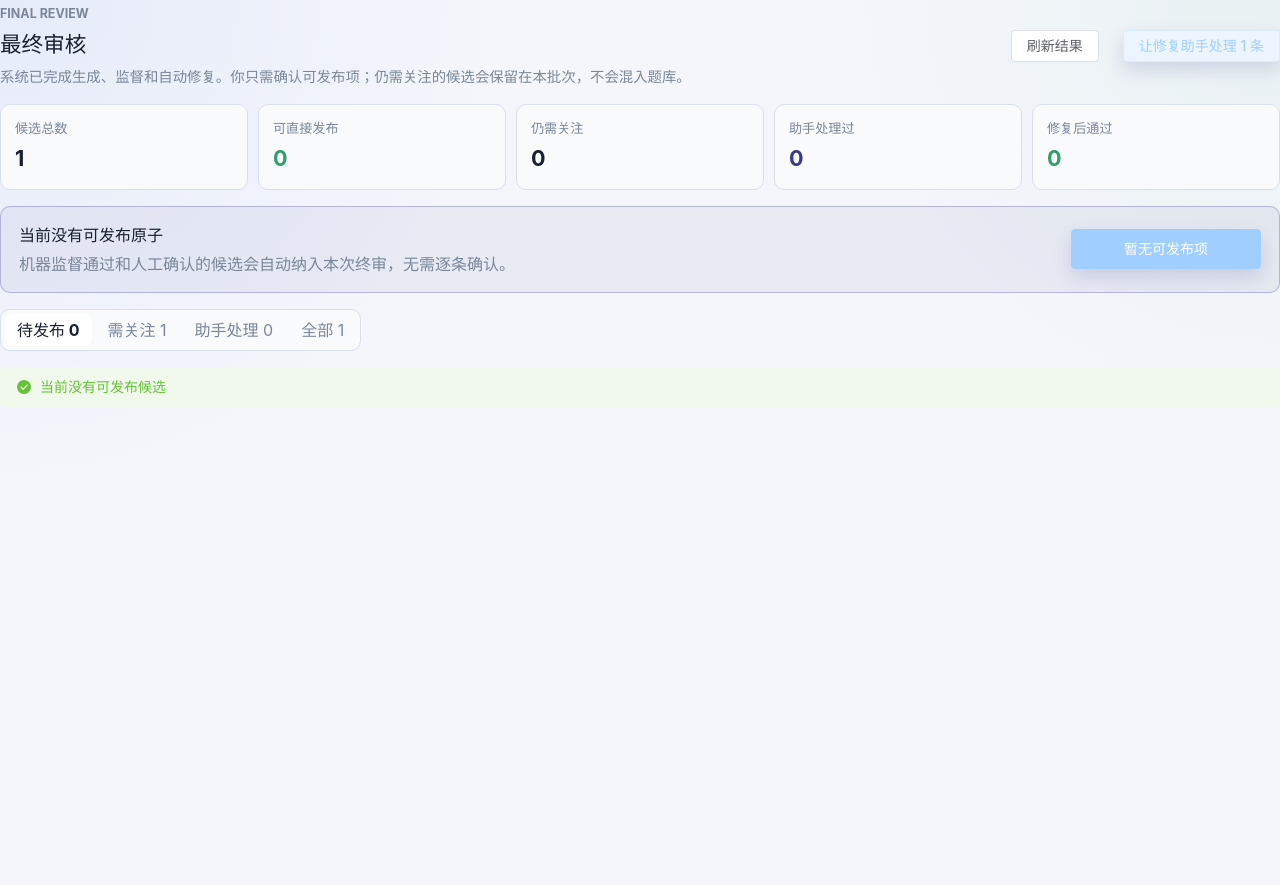
QuestionBankCandidateReviewPanel › disables review and repair actions while the automatic pipeline is running
Click the button "需关注 1" at (137, 330), box x1=96 y1=314 x2=179 y2=346
(page scrolled)
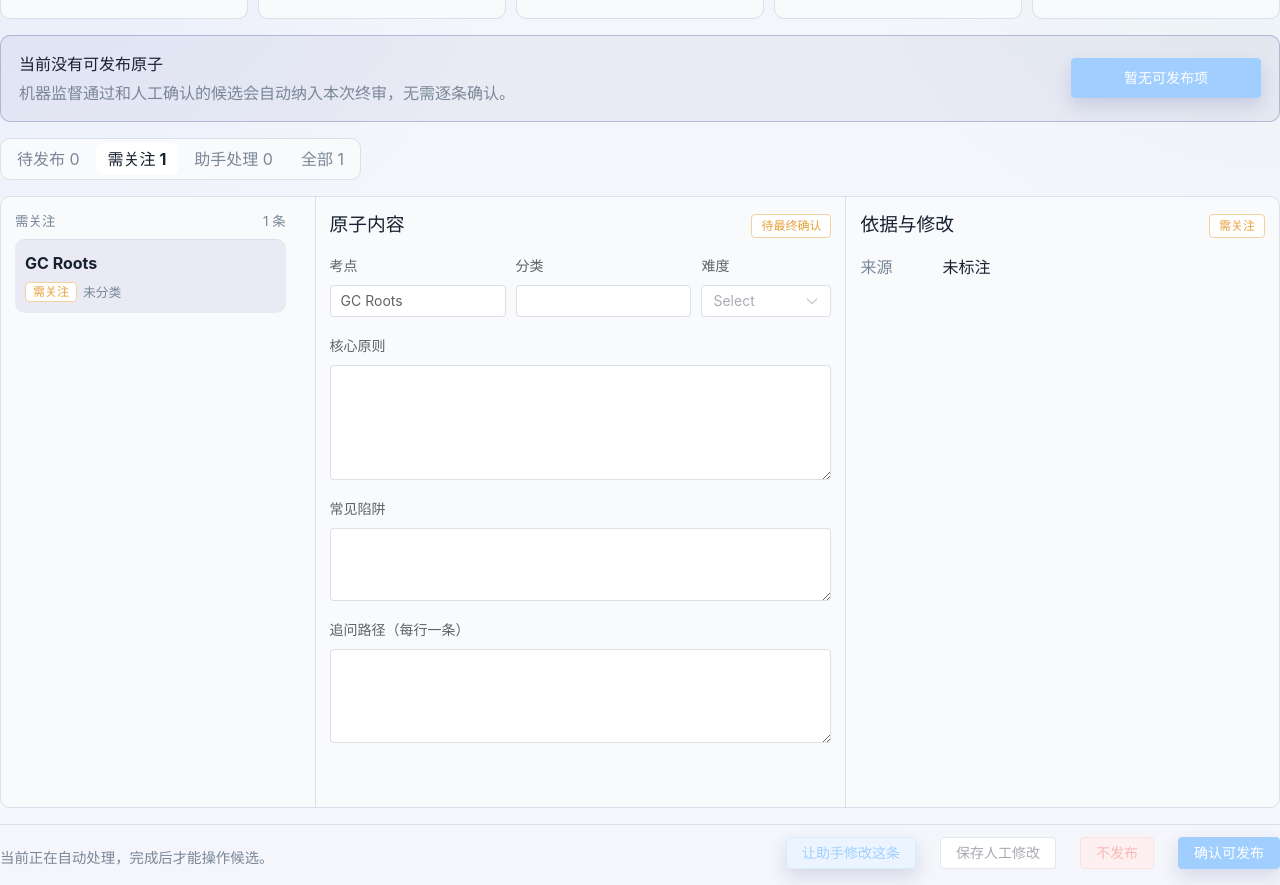
Expected: the text "当前正在自动处理" is shown, x1=0 y1=849 x2=273 y2=866
Expected: the button with test id "repair-current" is disabled, x1=786 y1=837 x2=916 y2=869
